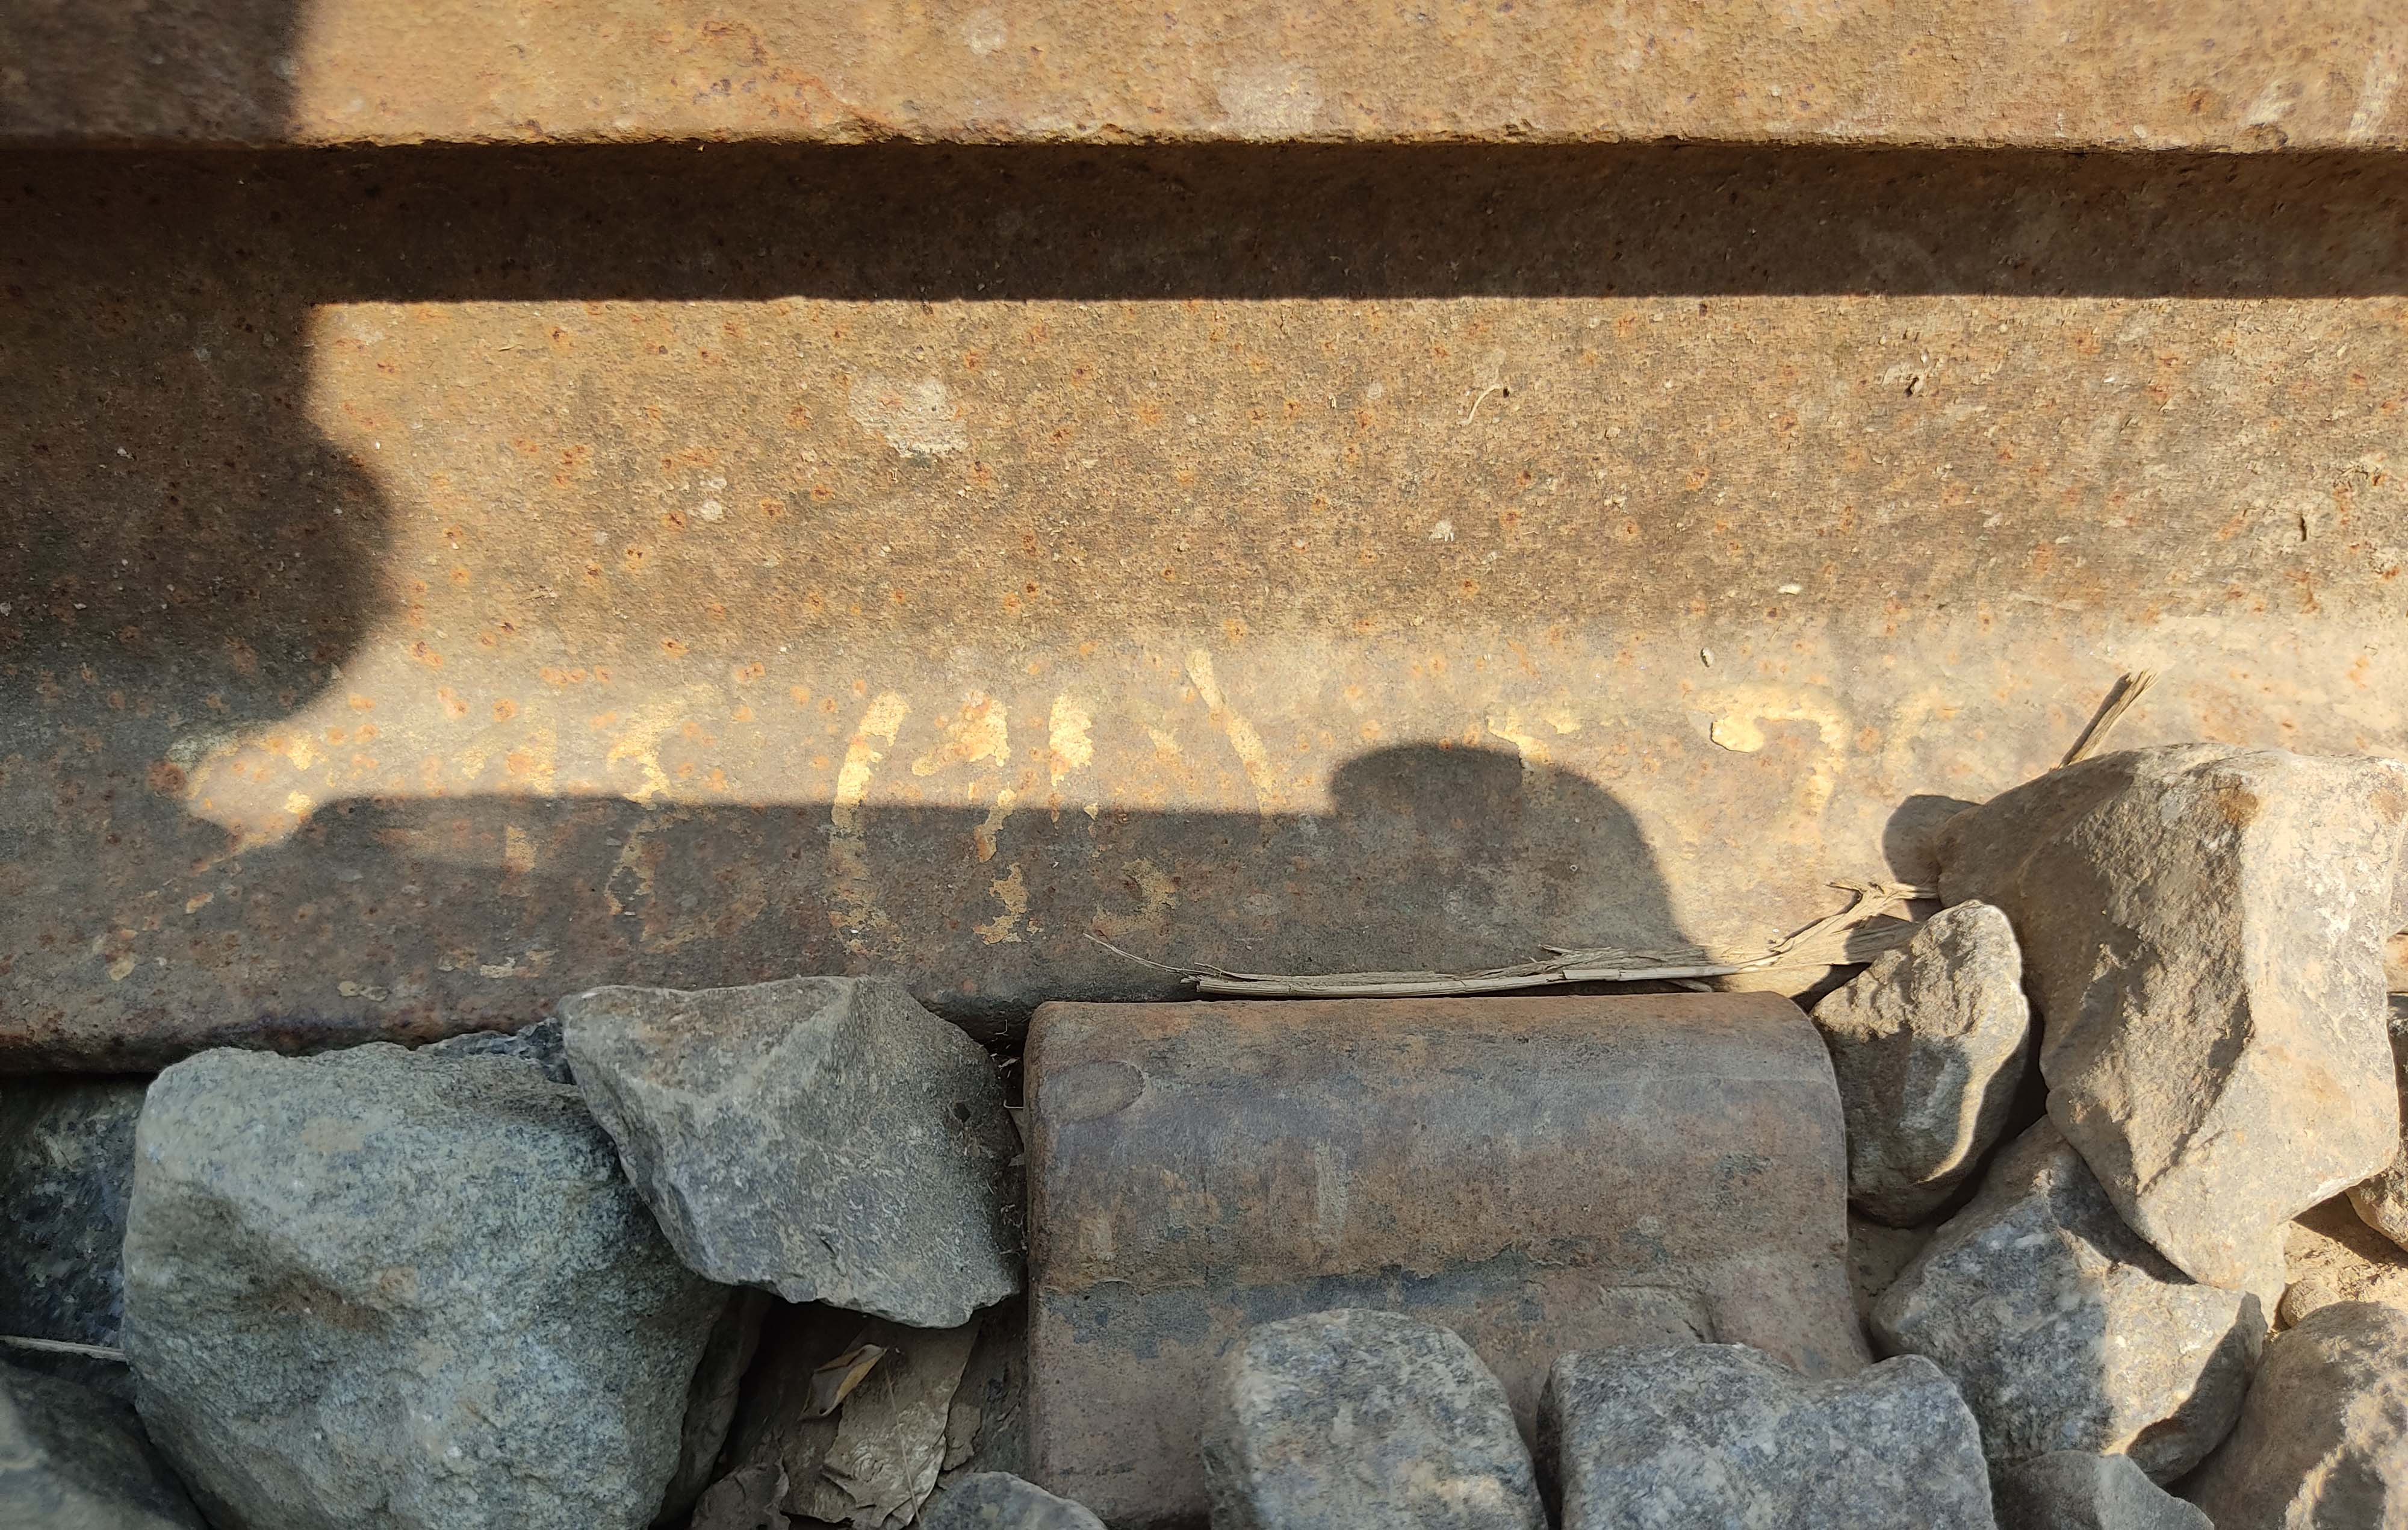error1: (939, 735, 1906, 1484)
